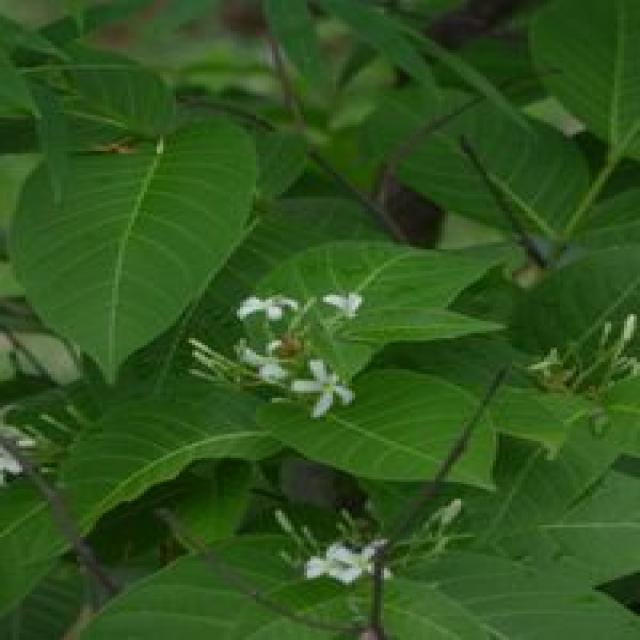Kutaja: (166, 17, 640, 494), (0, 361, 640, 640), (118, 243, 622, 567), (0, 12, 211, 345)
